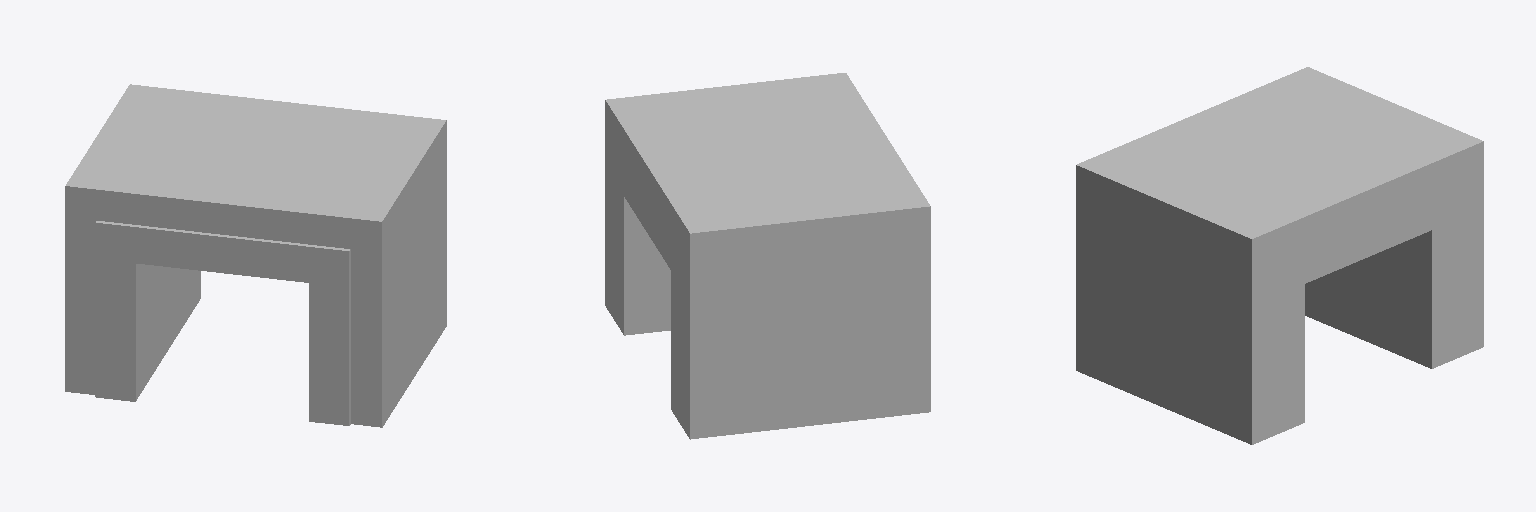
Rendered from sandstone_diagonal_rectangle_window_top.obj.
3 renders of one model, left to right at view 1: azimuth 30°, elevation 25°; view 2: azimuth 150°, elevation 25°; view 3: azimuth 270°, elevation 25°, orthographic.
Parts seen in each view (by area): view 1: sandstone_diagonal_rectangle_window_top; view 2: sandstone_diagonal_rectangle_window_top; view 3: sandstone_diagonal_rectangle_window_top.
Boxes of the visible parts, x1,y1,x2,y2 form: sandstone_diagonal_rectangle_window_top: [65, 84, 446, 427]; sandstone_diagonal_rectangle_window_top: [605, 73, 930, 439]; sandstone_diagonal_rectangle_window_top: [1076, 67, 1483, 444].
Size of the model in its own units: 1.8 by 0.9977 by 1.8.